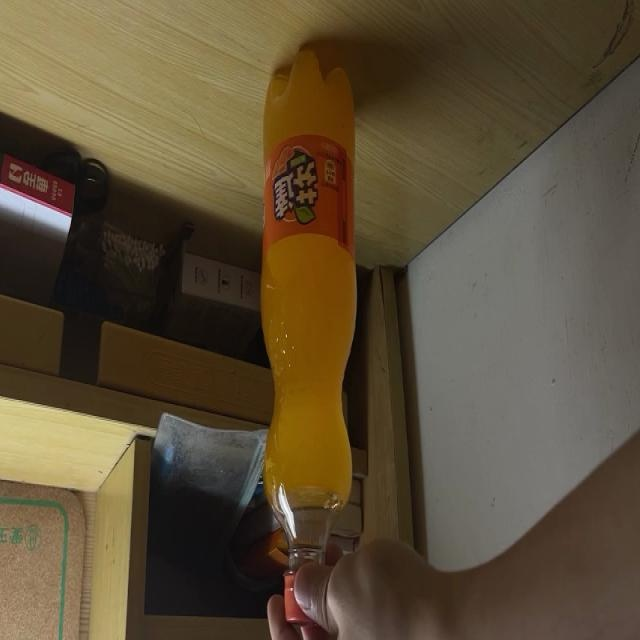Fanta: (260, 45, 357, 625)
